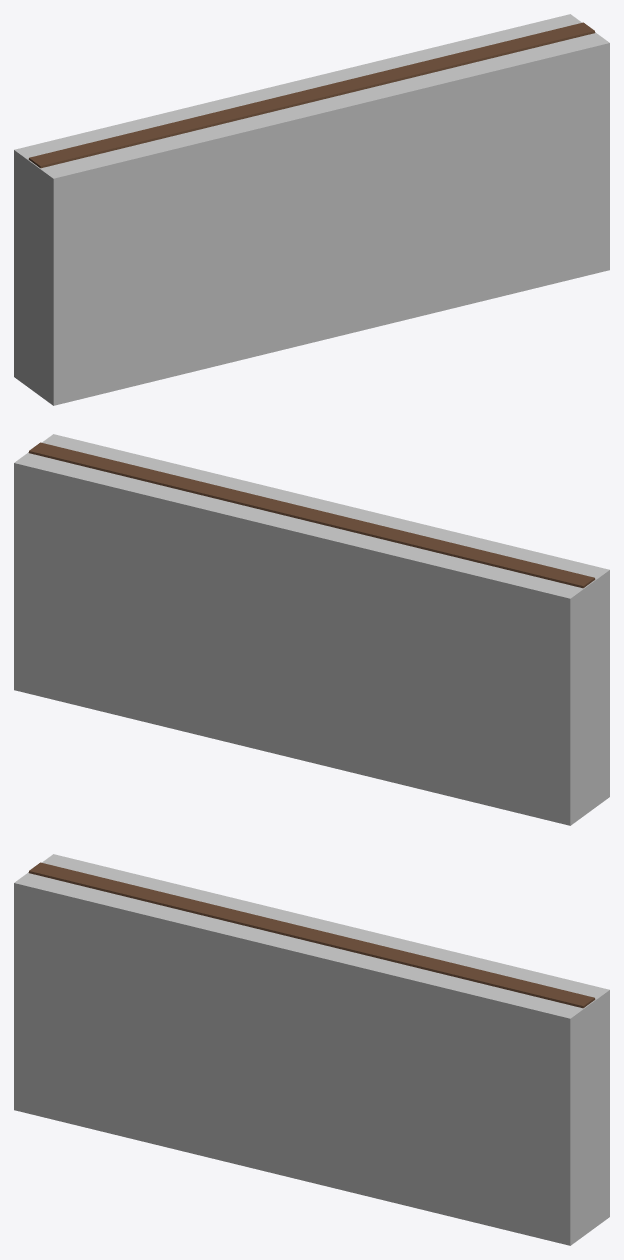
The model's file is SM_Bld_Stairs_Railing_01.fbx.
The picture shows the model from 3 angles, top to bottom: view 1: azimuth 30°, elevation 25°; view 2: azimuth 150°, elevation 25°; view 3: azimuth 330°, elevation 25°; orthographic projection.
Visible parts, largest first — view 1: SM_Bld_Stairs_Railing_01_ConvexHulls, SM_Bld_Stairs_Railing_01; view 2: SM_Bld_Stairs_Railing_01_ConvexHulls, SM_Bld_Stairs_Railing_01; view 3: SM_Bld_Stairs_Railing_01_ConvexHulls, SM_Bld_Stairs_Railing_01.
Boxes of the visible parts, x1,y1,x2,y2 form: SM_Bld_Stairs_Railing_01_ConvexHulls: (14, 14, 609, 405); SM_Bld_Stairs_Railing_01: (28, 22, 595, 168); SM_Bld_Stairs_Railing_01_ConvexHulls: (14, 434, 609, 825); SM_Bld_Stairs_Railing_01: (28, 442, 595, 588); SM_Bld_Stairs_Railing_01_ConvexHulls: (14, 854, 609, 1245); SM_Bld_Stairs_Railing_01: (28, 862, 595, 1008).
Size of the model in its own units: 251 by 30.85 by 98.74.
Materials: 2 (1 with a texture image).
